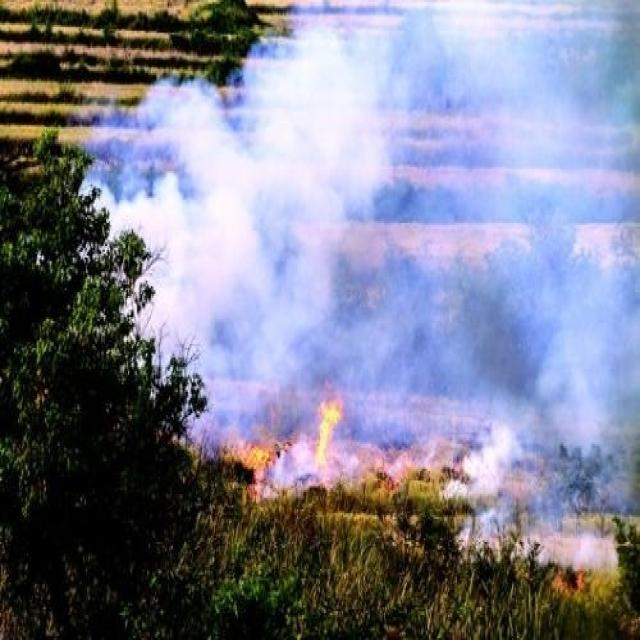Fire: (310, 394, 346, 465), (240, 442, 270, 471)
Smoke: (78, 2, 640, 573)
